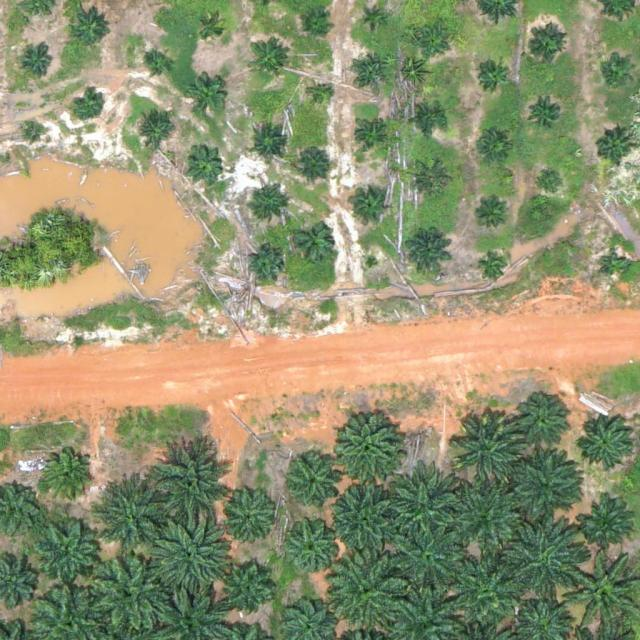Healthy: (452, 410, 530, 489), (447, 477, 525, 556), (450, 557, 528, 636), (391, 521, 469, 600), (388, 471, 466, 550), (328, 483, 406, 562), (154, 441, 232, 520), (151, 517, 229, 596), (97, 476, 175, 555), (94, 554, 172, 633), (503, 522, 581, 601), (334, 553, 412, 631), (506, 446, 584, 524), (330, 412, 401, 483), (218, 484, 280, 547), (39, 521, 101, 584), (287, 458, 342, 513), (288, 519, 342, 574), (221, 565, 275, 620), (40, 449, 94, 504), (517, 398, 571, 453), (581, 495, 635, 550), (578, 414, 632, 469)
Small: (405, 227, 452, 275), (289, 219, 336, 267), (350, 50, 390, 90), (529, 93, 569, 133), (183, 144, 223, 184), (595, 130, 635, 170), (248, 39, 287, 79), (351, 187, 390, 227), (246, 247, 285, 287), (186, 76, 225, 115), (71, 7, 110, 46), (526, 27, 565, 66), (247, 187, 286, 226), (251, 126, 290, 165), (293, 143, 332, 182), (413, 162, 452, 201), (136, 110, 175, 149), (417, 29, 448, 61), (476, 61, 507, 93), (479, 131, 510, 163), (600, 251, 631, 283), (537, 167, 568, 199), (414, 105, 445, 136), (23, 49, 54, 80), (73, 91, 104, 122), (601, 57, 632, 88), (476, 201, 507, 232), (354, 120, 385, 151), (480, 251, 511, 282), (301, 10, 332, 41), (196, 16, 227, 47), (143, 51, 174, 82), (311, 85, 335, 109), (361, 7, 384, 31), (26, 124, 42, 139)
